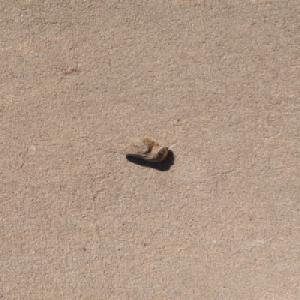Rock: (118, 136, 169, 161)
